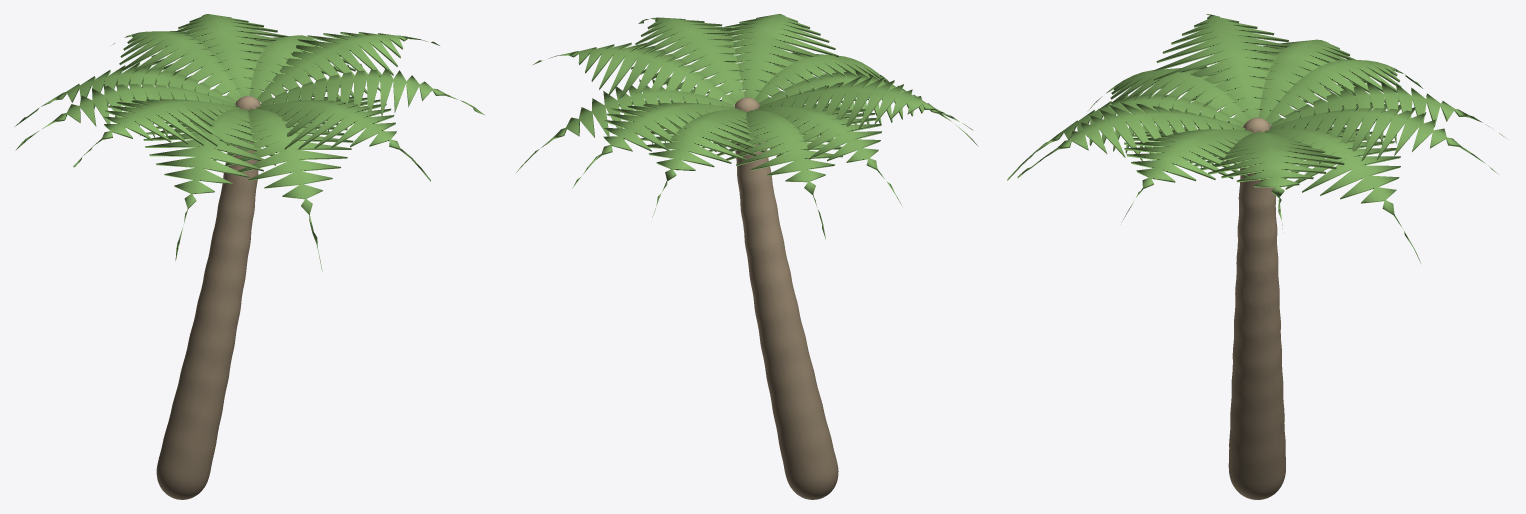
The model's file is palmier.glb.
3 views of the same model, side by side, from view 1: azimuth 30°, elevation 25°; view 2: azimuth 150°, elevation 25°; view 3: azimuth 270°, elevation 25° (orthographic). The views are drawn at different scales.
Visible parts, largest first — view 1: stipe__bark, palme7__leaf, palme8__leaf, palme0__leaf, palme9__leaf, palme6__leaf, palme2__leaf, palme3__leaf, palme10__leaf, palme5__leaf, palme4__leaf, palme1__leaf; view 2: stipe__bark, palme9__leaf, palme10__leaf, palme0__leaf, palme3__leaf, palme4__leaf, palme6__leaf, palme5__leaf, palme2__leaf, palme1__leaf, palme8__leaf, palme7__leaf; view 3: stipe__bark, palme6__leaf, palme0__leaf, palme1__leaf, palme10__leaf, palme2__leaf, palme9__leaf, palme4__leaf, palme3__leaf, palme7__leaf, palme5__leaf, palme8__leaf.
Boxes of the visible parts, left/top/right/bottom form: stipe__bark: left=156, top=95, right=260, bottom=499; palme7__leaf: left=143, top=109, right=276, bottom=260; palme8__leaf: left=213, top=109, right=353, bottom=270; palme0__leaf: left=257, top=32, right=439, bottom=103; palme9__leaf: left=256, top=96, right=430, bottom=181; palme6__leaf: left=73, top=97, right=240, bottom=167; palme2__leaf: left=151, top=14, right=288, bottom=97; palme3__leaf: left=111, top=31, right=241, bottom=101; palme10__leaf: left=260, top=64, right=484, bottom=132; palme5__leaf: left=15, top=79, right=235, bottom=150; palme4__leaf: left=15, top=62, right=235, bottom=126; palme1__leaf: left=248, top=35, right=355, bottom=98; stipe__bark: left=734, top=97, right=838, bottom=499; palme9__leaf: left=689, top=14, right=839, bottom=101; palme10__leaf: left=631, top=17, right=744, bottom=102; palme0__leaf: left=533, top=42, right=736, bottom=105; palme3__leaf: left=635, top=109, right=772, bottom=216; palme4__leaf: left=702, top=110, right=842, bottom=239; palme6__leaf: left=759, top=76, right=972, bottom=136; palme5__leaf: left=739, top=104, right=901, bottom=204; palme2__leaf: left=572, top=100, right=738, bottom=188; palme1__leaf: left=515, top=79, right=735, bottom=173; palme8__leaf: left=737, top=52, right=889, bottom=104; palme7__leaf: left=759, top=70, right=978, bottom=146; stipe__bark: left=1228, top=117, right=1285, bottom=499; palme6__leaf: left=1153, top=14, right=1314, bottom=122; palme0__leaf: left=1186, top=131, right=1344, bottom=232; palme1__leaf: left=1258, top=126, right=1420, bottom=262; palme10__leaf: left=1121, top=129, right=1257, bottom=222; palme2__leaf: left=1270, top=103, right=1498, bottom=174; palme9__leaf: left=1017, top=101, right=1245, bottom=178; palme4__leaf: left=1261, top=58, right=1422, bottom=127; palme3__leaf: left=1270, top=81, right=1506, bottom=144; palme7__leaf: left=1086, top=66, right=1248, bottom=128; palme5__leaf: left=1220, top=39, right=1369, bottom=119; palme8__leaf: left=1007, top=91, right=1244, bottom=180.
Bounding box in the file's own units: 6.31 × 6.08 × 6.31.
